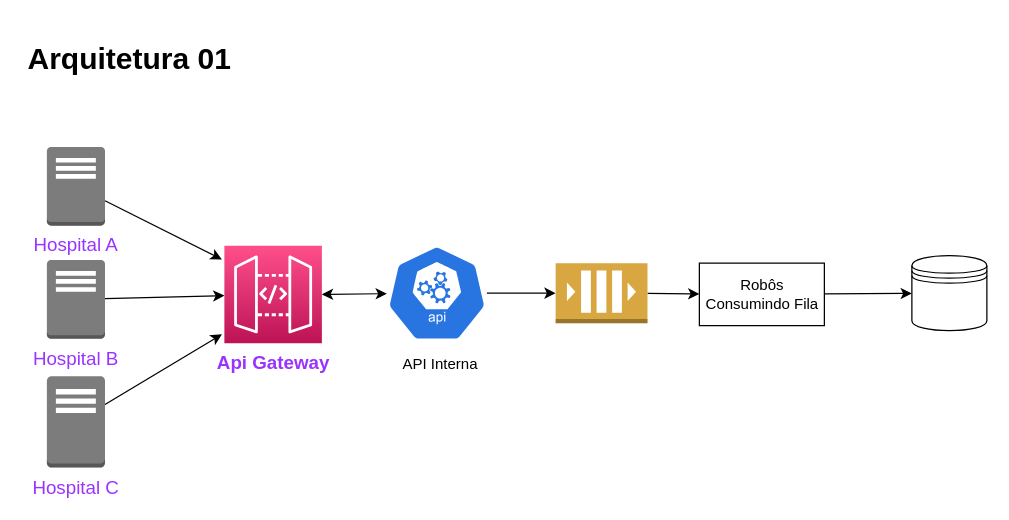
Image size: 1009x520. Some labels were removed from this diagram. The box of each missing label's shape, as (x1, y1, x2, y2) in pixels:
DB: (911, 254, 987, 331)
Fila: (554, 262, 648, 323)
